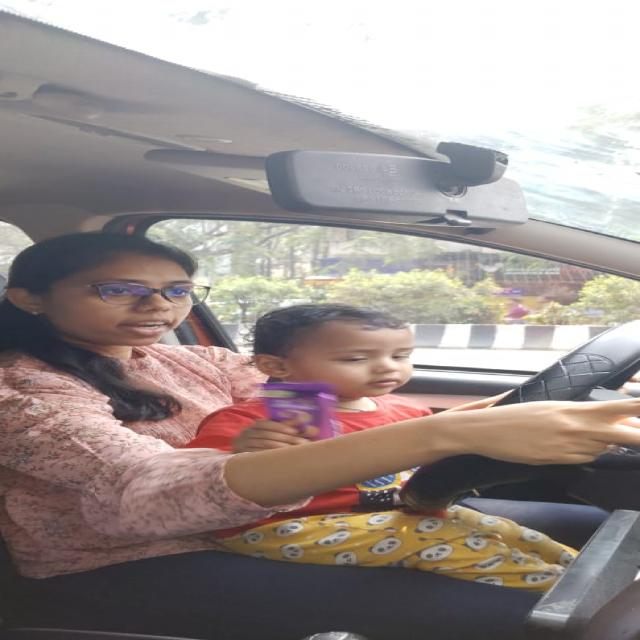child: (242, 303, 435, 399)
person: (1, 235, 210, 358)
